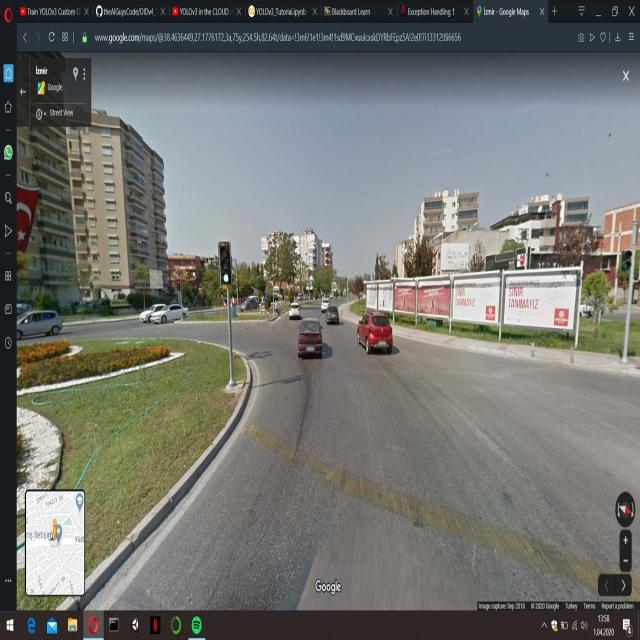yesil: (218, 240, 232, 284)
